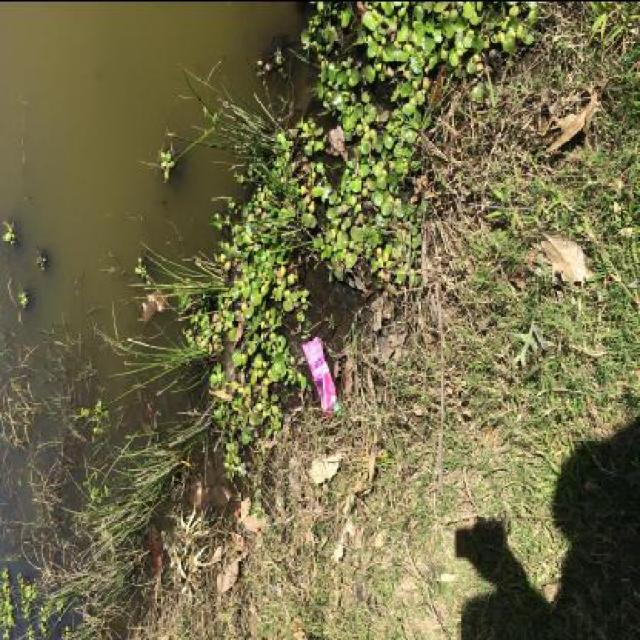other: (302, 336, 338, 416)
